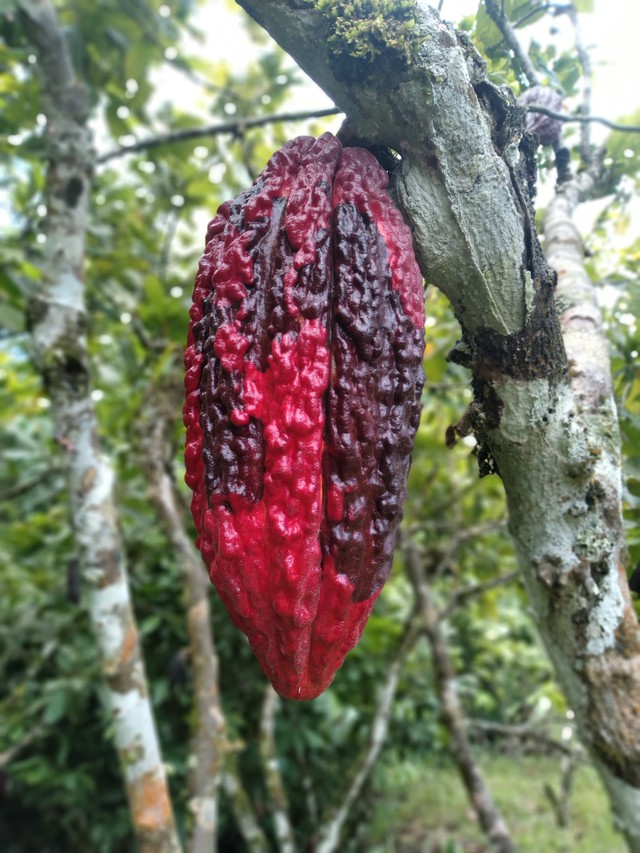phytophthora palmivora: (177, 124, 431, 705)
